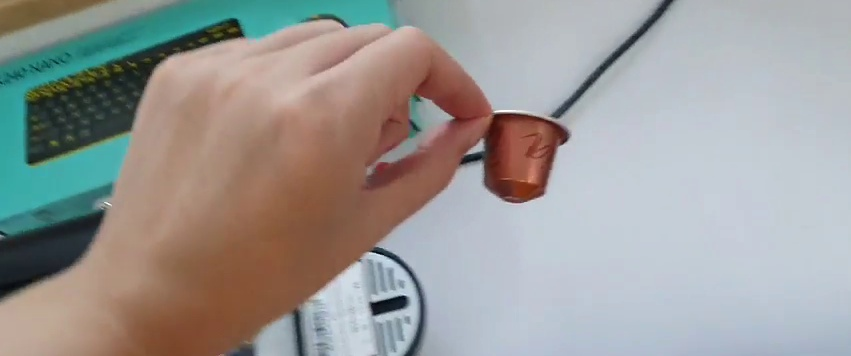capsule_6: (474, 106, 570, 204)
